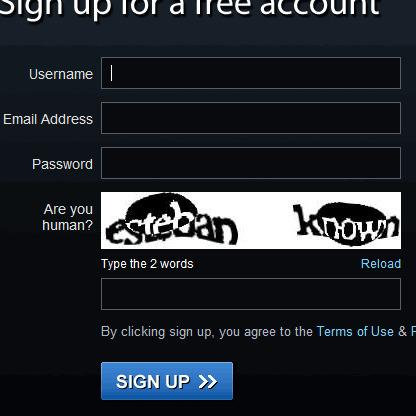button: (100, 361, 234, 400)
field: (98, 56, 402, 89), (98, 102, 402, 135), (99, 147, 403, 179), (99, 278, 403, 310)
field_with_label: (95, 258, 406, 311), (3, 100, 404, 137), (27, 54, 403, 91), (30, 146, 406, 181)
